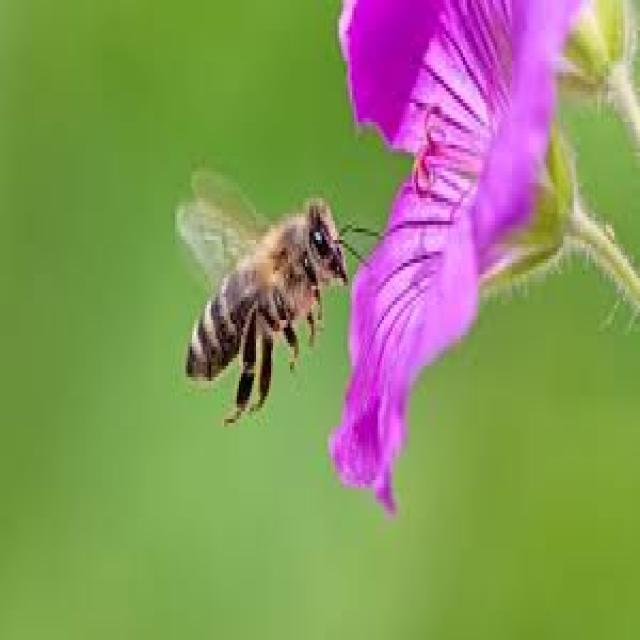Bees: (175, 170, 382, 428)
